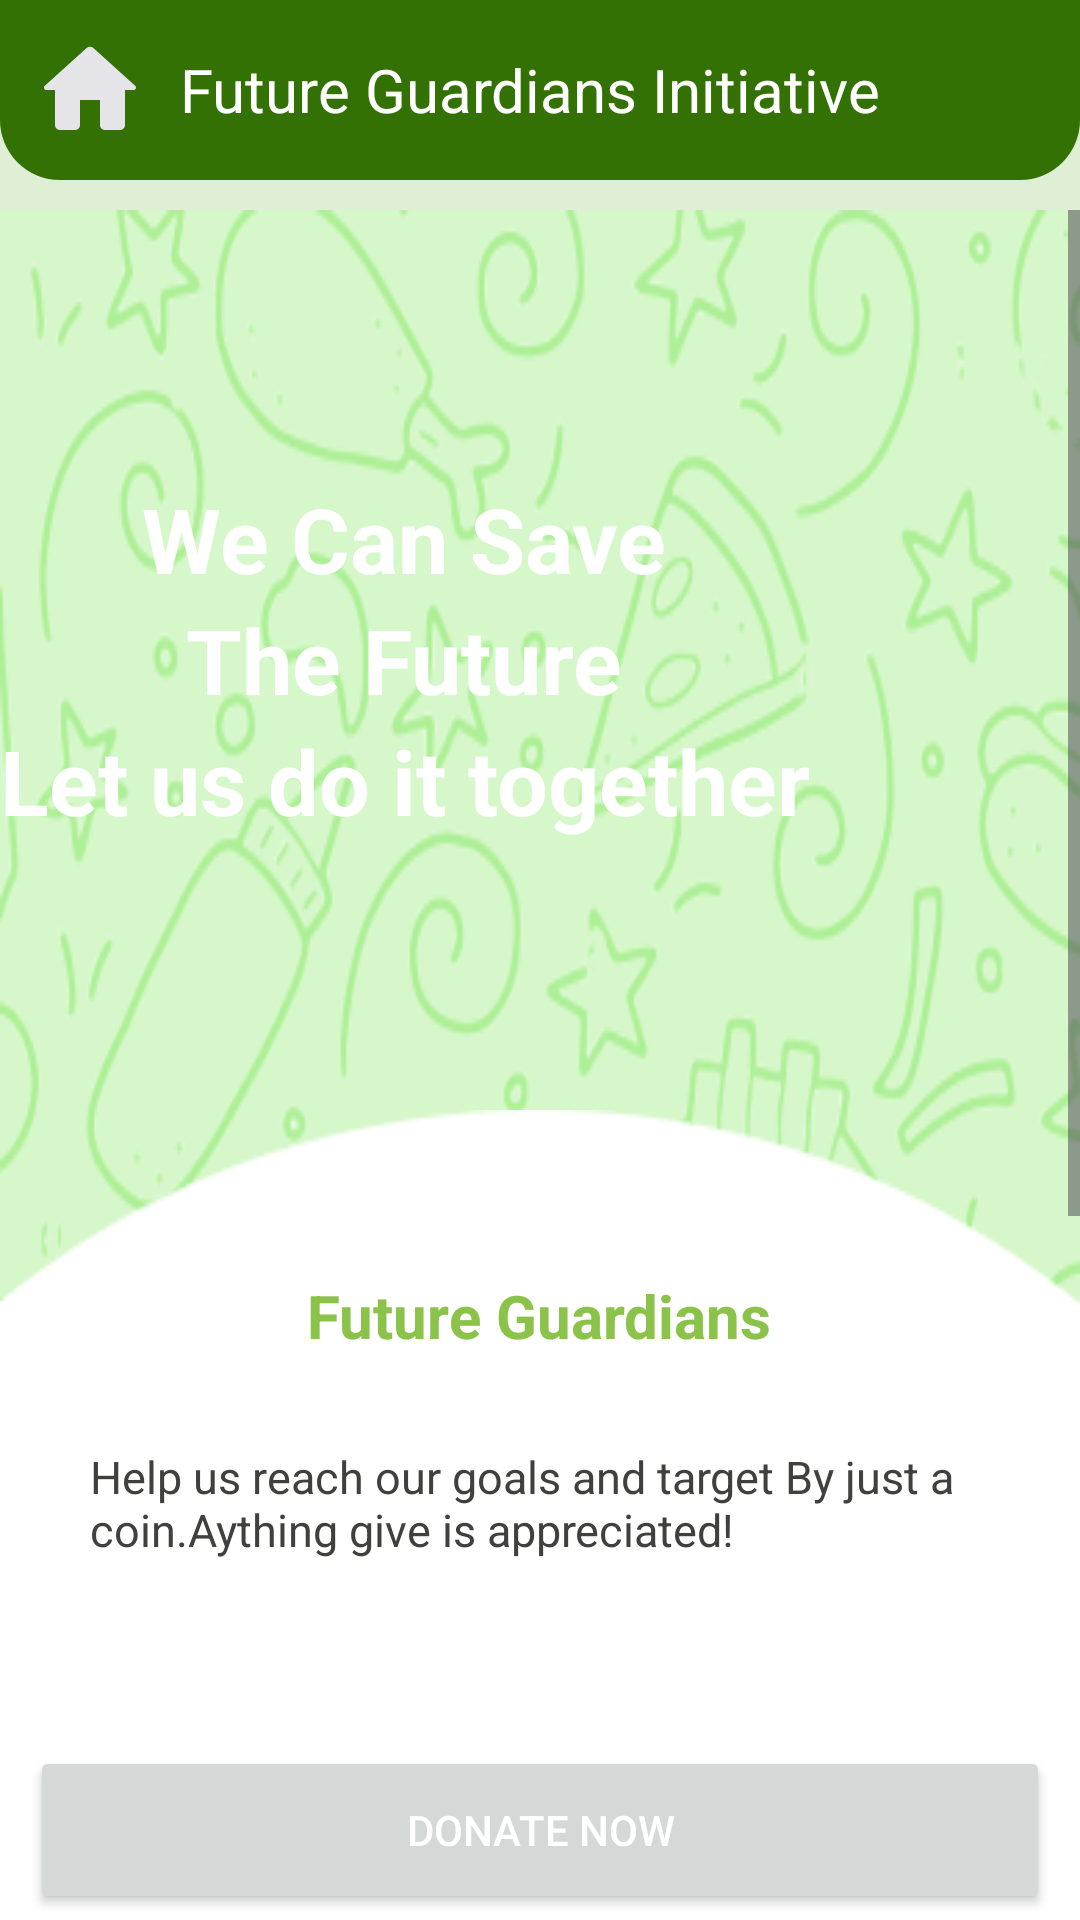

Screen size 1080 × 1920. Icon name, then its center in pixels as (x,y):
home: (90,88)
